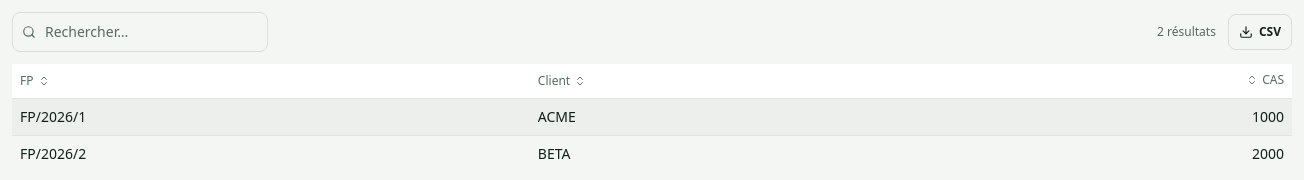
ListView — recherche, détail extensible, colonnes › filtre les lignes par la recherche
Expected: the text "ACME" is shown, [538,107,576,126]
Expected: the text "BETA" is shown, [538,144,570,163]
Type "beta" into the field labelled "Rechercher…".
click(140, 32); type("beta")  # box [12,12,268,52]
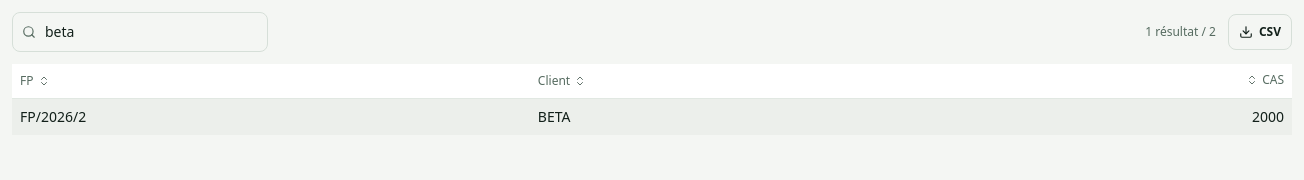
Result: the text "ACME" is gone
Result: the text "BETA" is shown at [538,107,570,126]
